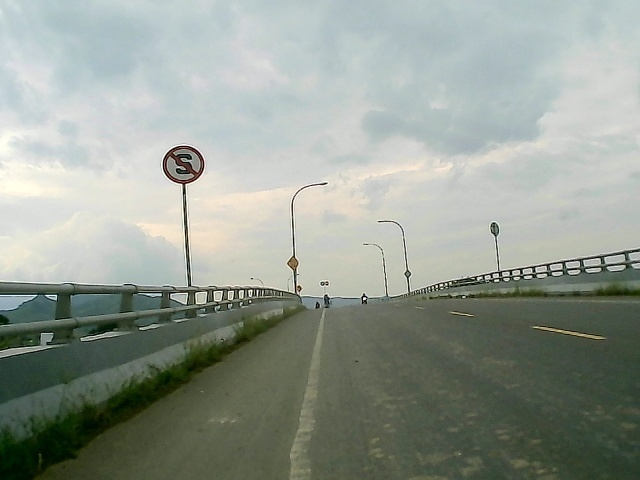Dilarang berhenti: (161, 144, 207, 185)
